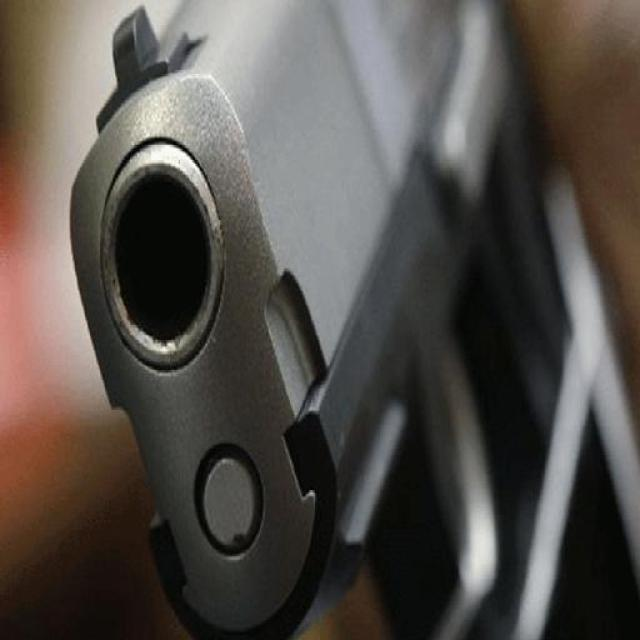pistol: (97, 1, 550, 610)
